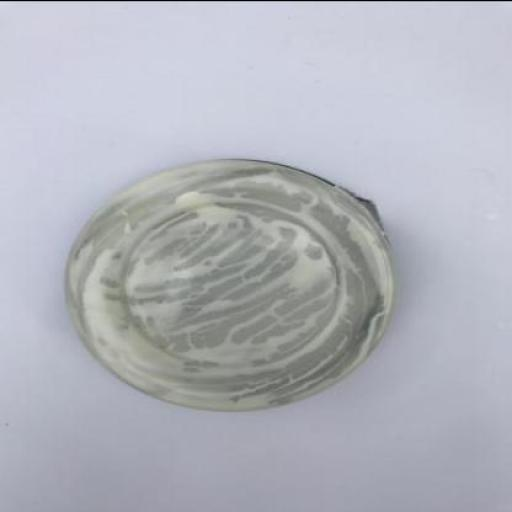plastic: (63, 158, 396, 409)
